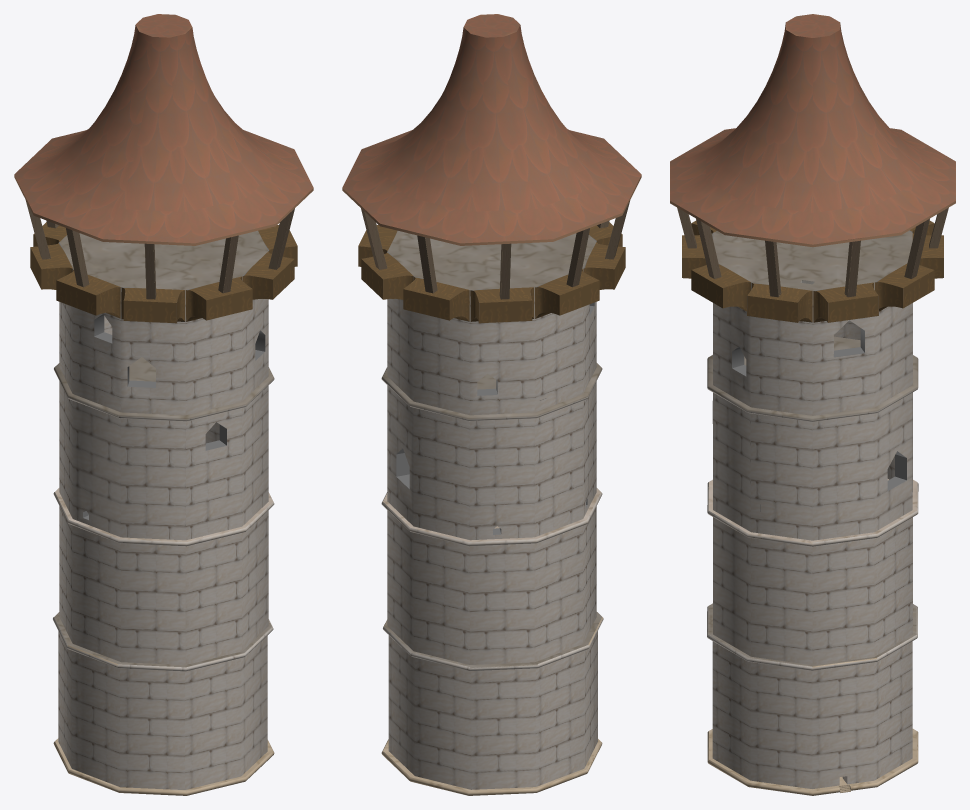
Rendered from tower_new.fbx.
3 renders of one model, left to right at view 1: azimuth 30°, elevation 25°; view 2: azimuth 150°, elevation 25°; view 3: azimuth 270°, elevation 25°, orthographic.
Parts seen in each view (by area): view 1: roof, floor3, floor1_2, floor2, floor4, rh1_base, rh10_base, rh9_base, base2, rh2_base, rh8_base, rh9 (+4 smaller); view 2: roof, floor3, floor2, floor1_2, floor4, rh6_base, rh7_base, rh8_base, base2, rh5_base, rh9_base, rh8 (+4 smaller); view 3: roof, floor3, floor2, floor1_2, floor4, rh3_base, rh4_base, base2, rh2_base, rh5_base, rh2, rh5 (+4 smaller).
Boxes of the visible parts, x1=… form: roof: x1=14, y1=14, x2=313, y2=245; floor3: x1=54, y1=357, x2=274, y2=540; floor1_2: x1=53, y1=612, x2=273, y2=789; floor2: x1=53, y1=488, x2=274, y2=664; floor4: x1=59, y1=230, x2=268, y2=415; rh1_base: x1=186, y1=276, x2=252, y2=321; rh10_base: x1=121, y1=287, x2=185, y2=323; rh9_base: x1=56, y1=269, x2=120, y2=318; base2: x1=53, y1=738, x2=274, y2=795; rh2_base: x1=242, y1=251, x2=294, y2=299; rh8_base: x1=30, y1=242, x2=72, y2=289; rh9: x1=66, y1=228, x2=89, y2=287; roof: x1=342, y1=14, x2=641, y2=245; floor3: x1=381, y1=363, x2=602, y2=540; floor2: x1=381, y1=488, x2=602, y2=664; floor1_2: x1=383, y1=612, x2=603, y2=789; floor4: x1=387, y1=231, x2=596, y2=415; rh6_base: x1=403, y1=276, x2=469, y2=321; rh7_base: x1=470, y1=287, x2=534, y2=323; rh8_base: x1=535, y1=269, x2=599, y2=318; base2: x1=381, y1=739, x2=602, y2=795; rh5_base: x1=361, y1=251, x2=413, y2=299; rh9_base: x1=583, y1=242, x2=625, y2=289; rh8: x1=566, y1=228, x2=589, y2=287; roof: x1=670, y1=14, x2=955, y2=247; floor3: x1=707, y1=336, x2=918, y2=540; floor2: x1=707, y1=479, x2=918, y2=665; floor1_2: x1=707, y1=603, x2=917, y2=788; floor4: x1=713, y1=231, x2=912, y2=415; rh3_base: x1=747, y1=282, x2=812, y2=322; rh4_base: x1=813, y1=282, x2=878, y2=322; base2: x1=707, y1=729, x2=918, y2=795; rh2_base: x1=691, y1=263, x2=750, y2=311; rh5_base: x1=875, y1=263, x2=934, y2=311; rh2: x1=696, y1=218, x2=721, y2=278; rh5: x1=904, y1=218, x2=929, y2=278.
Bounding box in the file's own units: 6740 × 17900 × 6410.
